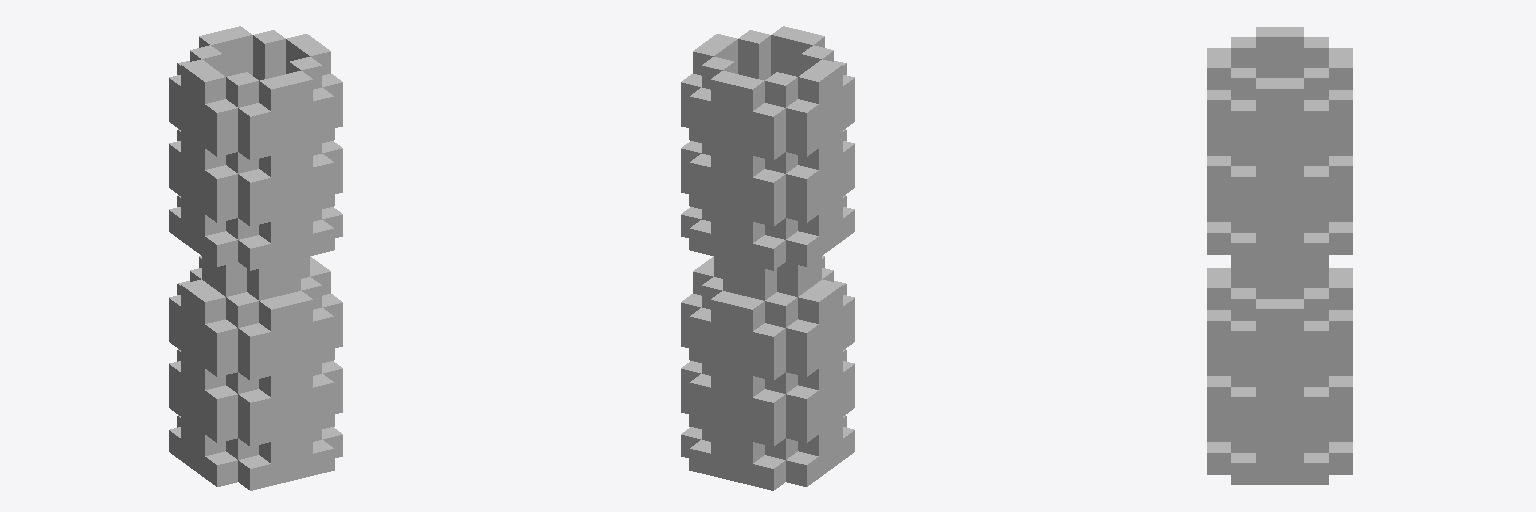
File: monster.obj
3 views of the same model, side by side, from view 1: azimuth 30°, elevation 25°; view 2: azimuth 150°, elevation 25°; view 3: azimuth 270°, elevation 25° (orthographic).
Visible parts, largest first — view 1: object 1; view 2: object 1; view 3: object 1.
Boxes of the visible parts, <box> form: object 1: <box>169,26,342,490</box>; object 1: <box>681,26,854,490</box>; object 1: <box>1207,27,1352,484</box>.
Size of the model in its own units: 0.6 by 1.8 by 0.6.